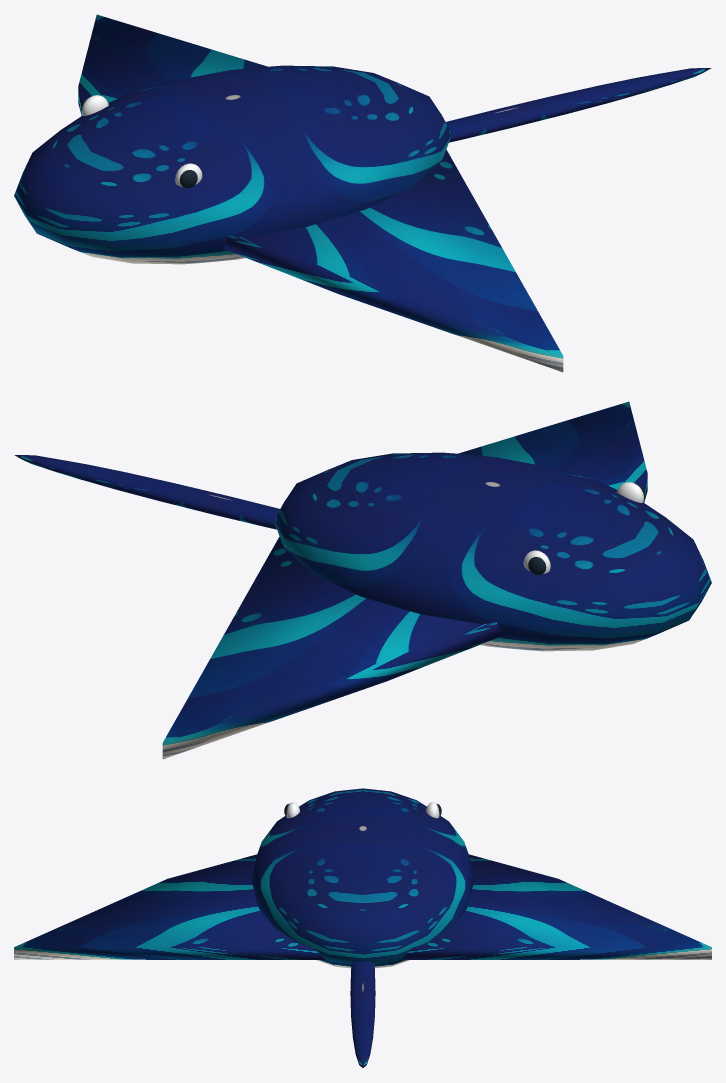
The model's file is manta_ray-Cl8jWUWC.glb.
The picture shows the model from 3 angles, top to bottom: view 1: azimuth 30°, elevation 25°; view 2: azimuth 150°, elevation 25°; view 3: azimuth 270°, elevation 25°; orthographic projection. The views are drawn at different scales.
Visible parts, largest first — view 1: manta_ray_Body, manta_ray_Fin, manta_ray_Fin.001, manta_ray_Tail; view 2: manta_ray_Body, manta_ray_Fin.001, manta_ray_Fin, manta_ray_Tail; view 3: manta_ray_Body, manta_ray_Fin, manta_ray_Fin.001, manta_ray_Tail.
Part boxes in pixels (x1=…): manta_ray_Body: x1=14, y1=65, x2=451, y2=264; manta_ray_Fin: x1=223, y1=149, x2=563, y2=372; manta_ray_Fin.001: x1=78, y1=14, x2=267, y2=115; manta_ray_Tail: x1=446, y1=68, x2=711, y2=142; manta_ray_Body: x1=274, y1=452, x2=711, y2=651; manta_ray_Fin.001: x1=162, y1=536, x2=502, y2=759; manta_ray_Fin: x1=458, y1=401, x2=647, y2=502; manta_ray_Tail: x1=14, y1=455, x2=279, y2=529; manta_ray_Body: x1=251, y1=788, x2=474, y2=968; manta_ray_Fin: x1=14, y1=854, x2=325, y2=959; manta_ray_Fin.001: x1=400, y1=854, x2=711, y2=959; manta_ray_Tail: x1=350, y1=961, x2=375, y2=1067.
Size of the model in its own units: 3.05 by 0.5758 by 3.6.
3 materials, 1 textured.
